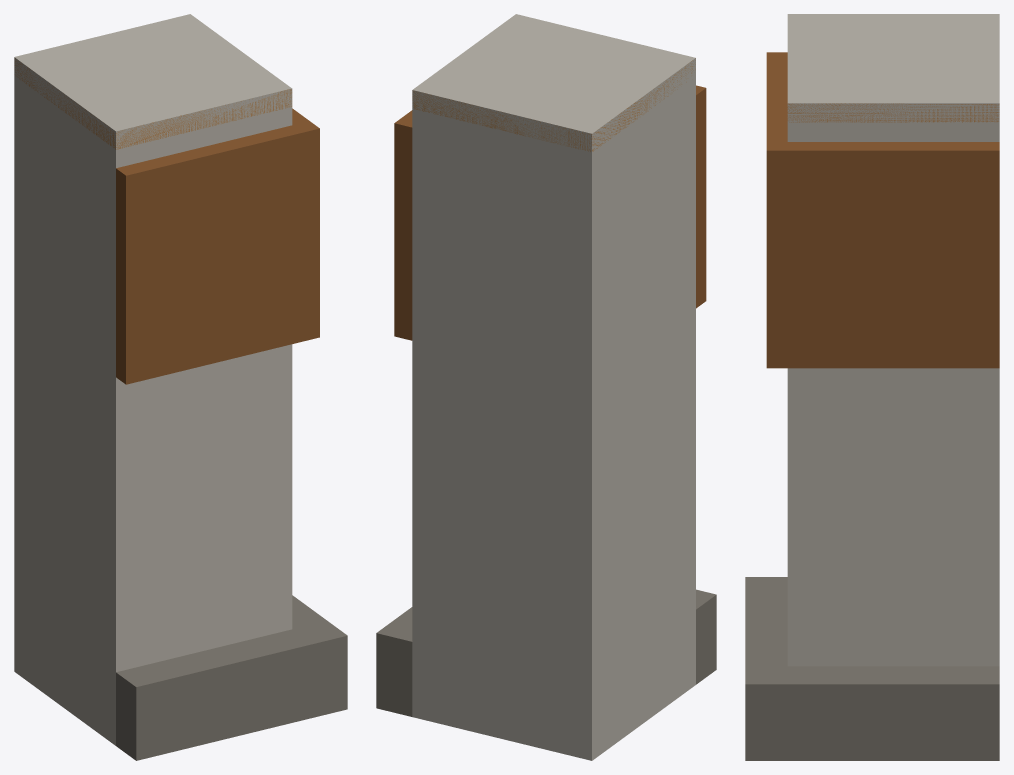
Rendered from wall-corner.glb.
3 views of the same model, side by side, from view 1: azimuth 30°, elevation 25°; view 2: azimuth 150°, elevation 25°; view 3: azimuth 270°, elevation 25° (orthographic). The views are drawn at different scales.
Visible parts, largest first — view 1: wall-corner; view 2: wall-corner; view 3: wall-corner.
Part boxes in pixels (x1,y1,x2,y2): wall-corner: (14,14,347,760); wall-corner: (376,14,716,760); wall-corner: (745,14,999,760).
Size of the model in its own units: 0.18 by 0.5 by 0.18.
1 material, 1 textured.
